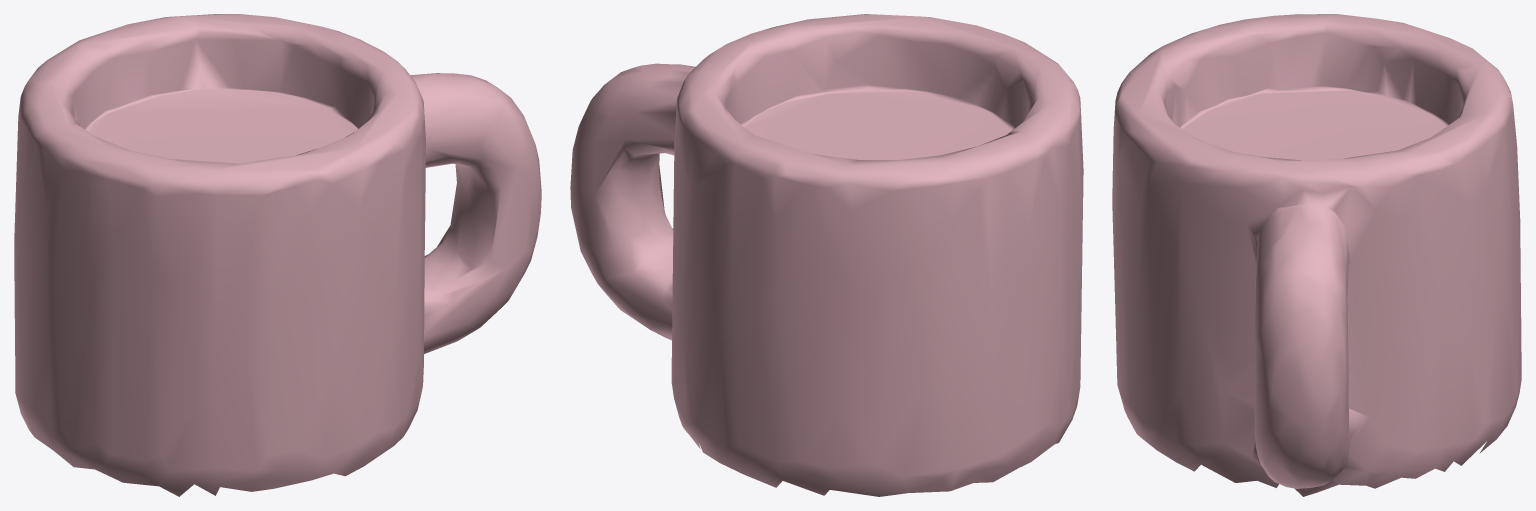
The model's file is daisy_mug.glb.
3 renders of one model, left to right at view 1: azimuth 30°, elevation 25°; view 2: azimuth 150°, elevation 25°; view 3: azimuth 270°, elevation 25°, orthographic.
Size of the model in its own units: 0.28 by 0.1825 by 0.2068.
